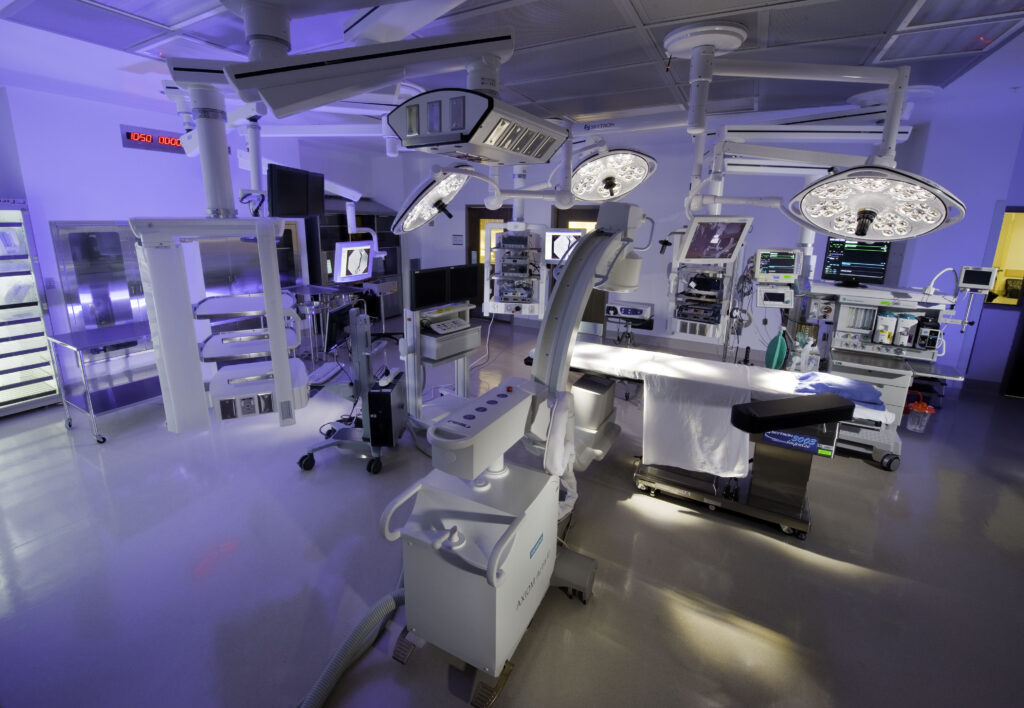bedside_monitor: (677, 215, 756, 267), (409, 264, 485, 312), (267, 164, 327, 217), (753, 250, 806, 308), (330, 240, 374, 281), (324, 309, 361, 347)
computer: (822, 237, 892, 286)
electrosurgical_unit: (674, 301, 722, 326)
keyboard: (426, 316, 477, 337)
operating_bed: (524, 339, 913, 479)
surgical_light: (788, 163, 967, 244), (389, 163, 474, 236), (555, 146, 658, 206)
utility_cart: (43, 322, 162, 444)
